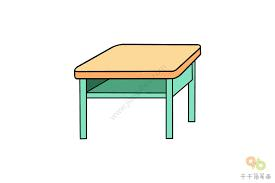desk: (57, 20, 217, 153)
